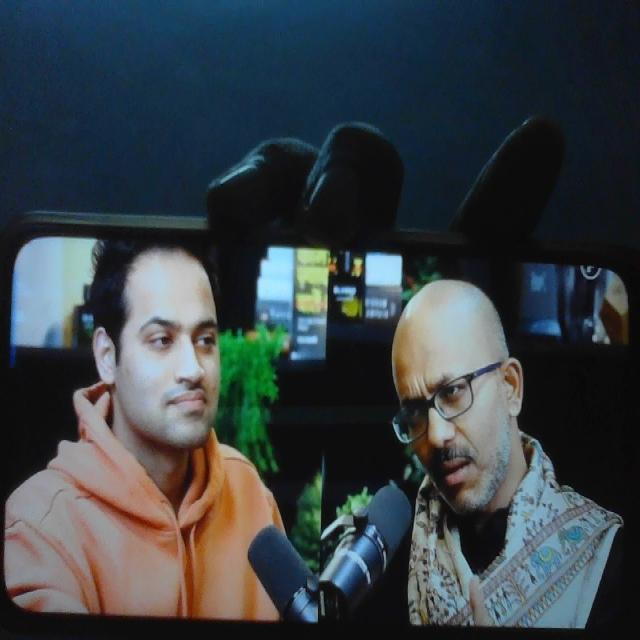fake: (102, 209, 232, 456)
